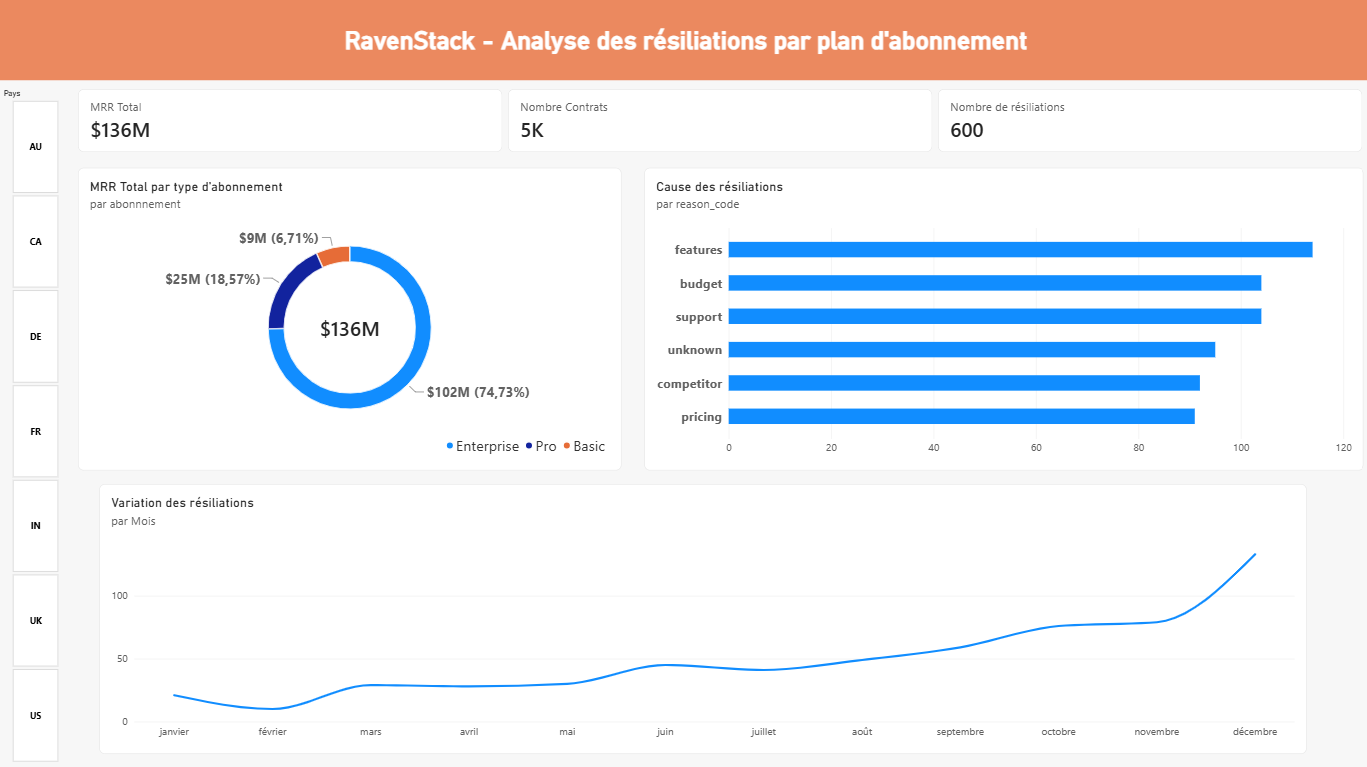

This screenshot's page, from the dashboard's own definition file:
{"tool":"powerbi","page":{"name":"Page 1","canvas":[1920,1080],"ordinal":0},"visuals":[{"type":"shape","box":[0,0,1920.4,113.4],"z":0},{"type":"cardVisual","fields":{"Data":["ravenstack_subscriptions.MRR Total","ravenstack_subscriptions.Nombre Contrats","ravenstack_churn_events.Nombre churn"]},"box":[111.6,125.6,1794.8,89],"z":1000},{"type":"clusteredBarChart","fields":{"Category":["ravenstack_churn_events.reason_code"],"Y":["ravenstack_churn_events.Nombre churn"]},"box":[901.7,235.5,1004.7,422.1],"z":2000},{"type":"donutChart","fields":{"Category":["ravenstack_subscriptions.plan_tier"],"Y":["ravenstack_subscriptions.MRR Total"]},"box":[111.6,235.5,758.7,422.1],"z":3000},{"type":"slicer","fields":{"Values":["ravenstack_accounts.country"]},"box":[0,125.6,102.9,940.1],"z":4000},{"type":"lineChart","fields":{"Category":["ravenstack_churn_events.churn_date.Variation.Hiérarchie de dates.Année","ravenstack_churn_events.churn_date.Variation.Hiérarchie de dates.Mois","ravenstack_churn_events.churn_date.Variation.Hiérarchie de dates.Jour"],"Y":["ravenstack_churn_events.Nombre churn"]},"box":[141.3,676.7,1684.9,376.7],"z":5000}]}

Visuals, with their boxes in screenshot pixels (x1, y1, x2, y2), scaled from the page's 1920x1080 canvas onto the 1367x767 screenshot:
shape: {"left": 0, "top": 0, "right": 1366, "bottom": 81}
cardVisual - ravenstack_subscriptions.MRR Total x ravenstack_subscriptions.Nombre Contrats: {"left": 79, "top": 89, "right": 1357, "bottom": 152}
clusteredBarChart - ravenstack_churn_events.reason_code x ravenstack_churn_events.Nombre churn: {"left": 642, "top": 167, "right": 1357, "bottom": 467}
donutChart - ravenstack_subscriptions.plan_tier x ravenstack_subscriptions.MRR Total: {"left": 79, "top": 167, "right": 620, "bottom": 467}
slicer - ravenstack_accounts.country: {"left": 0, "top": 89, "right": 73, "bottom": 757}
lineChart - ravenstack_churn_events.churn_date.Variation.Hiérarchie de dates.Année x ravenstack_churn_events.churn_date.Variation.Hiérarchie de dates.Mois: {"left": 101, "top": 481, "right": 1300, "bottom": 748}
